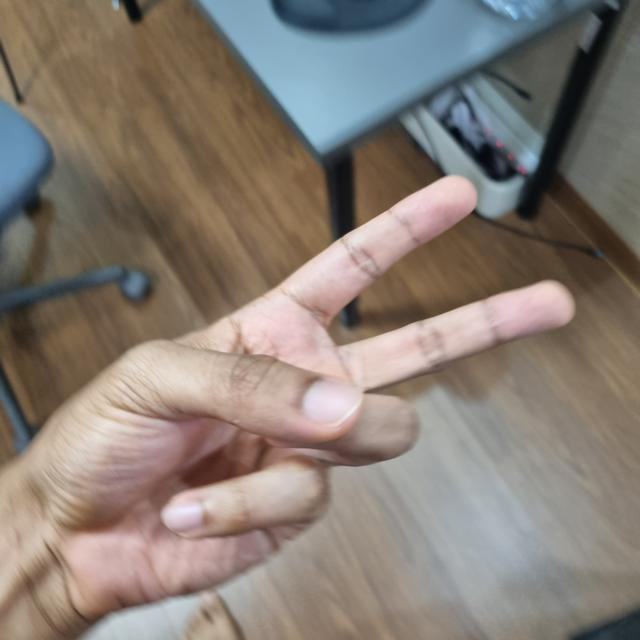Scissors: (54, 182, 566, 601)
